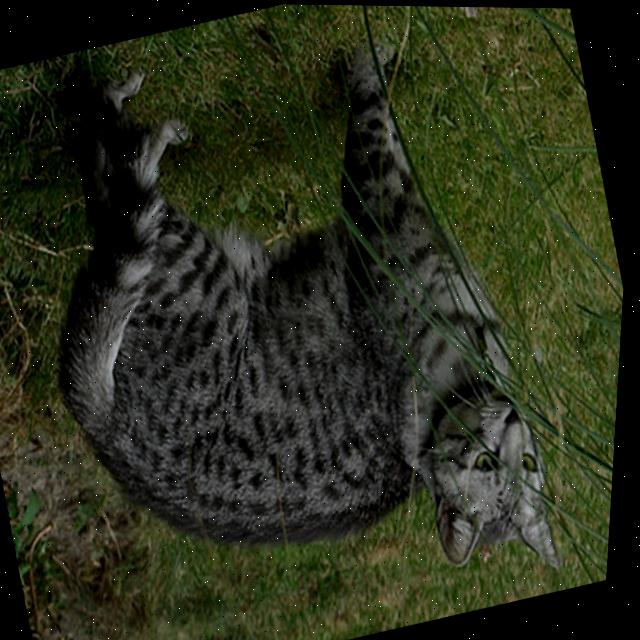Egyptian Mau: (0, 0, 601, 640)
